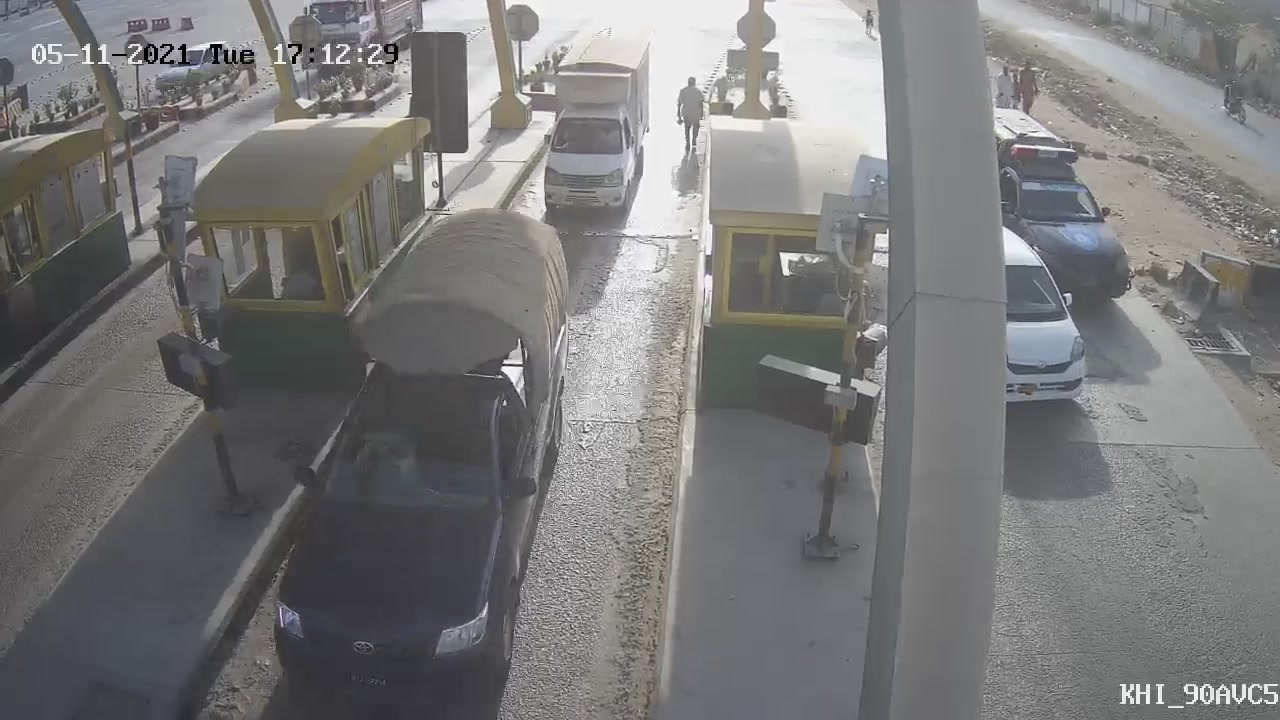F2: (514, 18, 666, 240)
